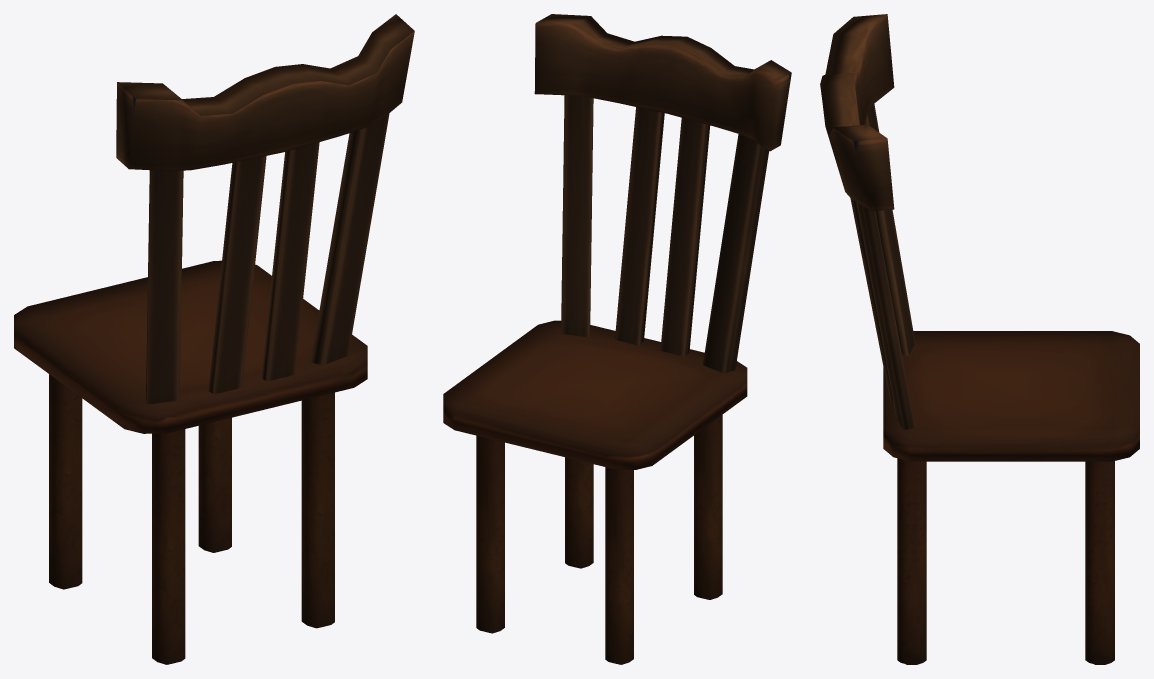
The model's file is Chair_K.fbx.
The picture shows the model from 3 angles, left to right: view 1: azimuth 30°, elevation 25°; view 2: azimuth 150°, elevation 25°; view 3: azimuth 270°, elevation 25°; orthographic projection. The views are drawn at different scales.
Visible parts, largest first — view 1: Chair_Backing_C, Chair_Base_A, Chair_Legs_B; view 2: Chair_Backing_C, Chair_Base_A, Chair_Legs_B; view 3: Chair_Base_A, Chair_Backing_C, Chair_Legs_B.
Part boxes in pixels (x1,y1,x2,y2): Chair_Backing_C: (116, 14, 414, 404); Chair_Base_A: (14, 260, 367, 433); Chair_Legs_B: (49, 374, 334, 664); Chair_Backing_C: (534, 14, 791, 373); Chair_Base_A: (443, 320, 747, 469); Chair_Legs_B: (476, 415, 722, 664); Chair_Base_A: (883, 331, 1139, 461); Chair_Backing_C: (820, 14, 915, 429); Chair_Legs_B: (897, 458, 1114, 664).
Size of the model in its own units: 5.66 by 11.72 by 6.14.
